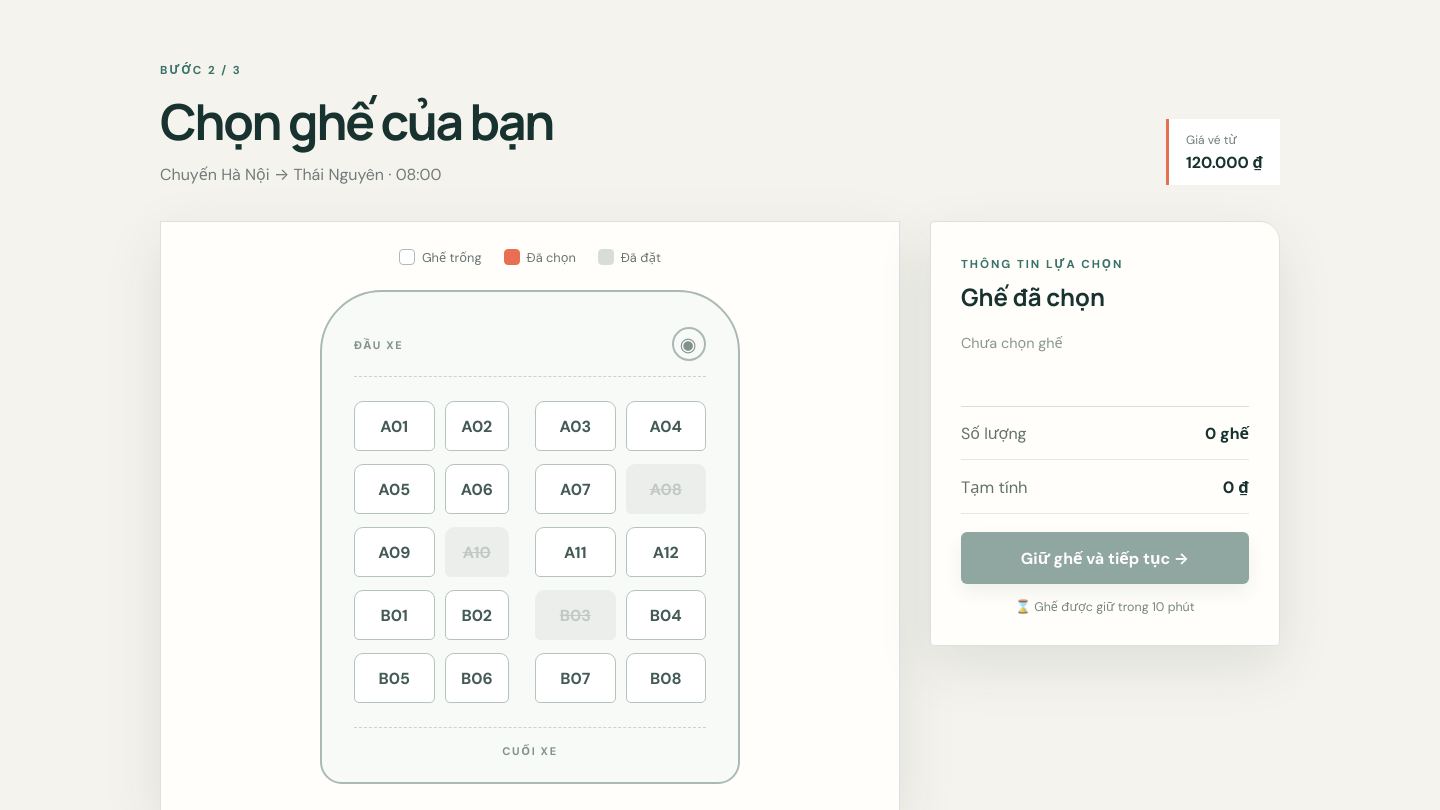
Test case: SelectSeat › chọn và bỏ chọn một ghế trống
The image size is (1440, 810).
Step 1. Click the button named "Ghế A01 còn trống" → (394, 426), box [354, 401, 434, 451]
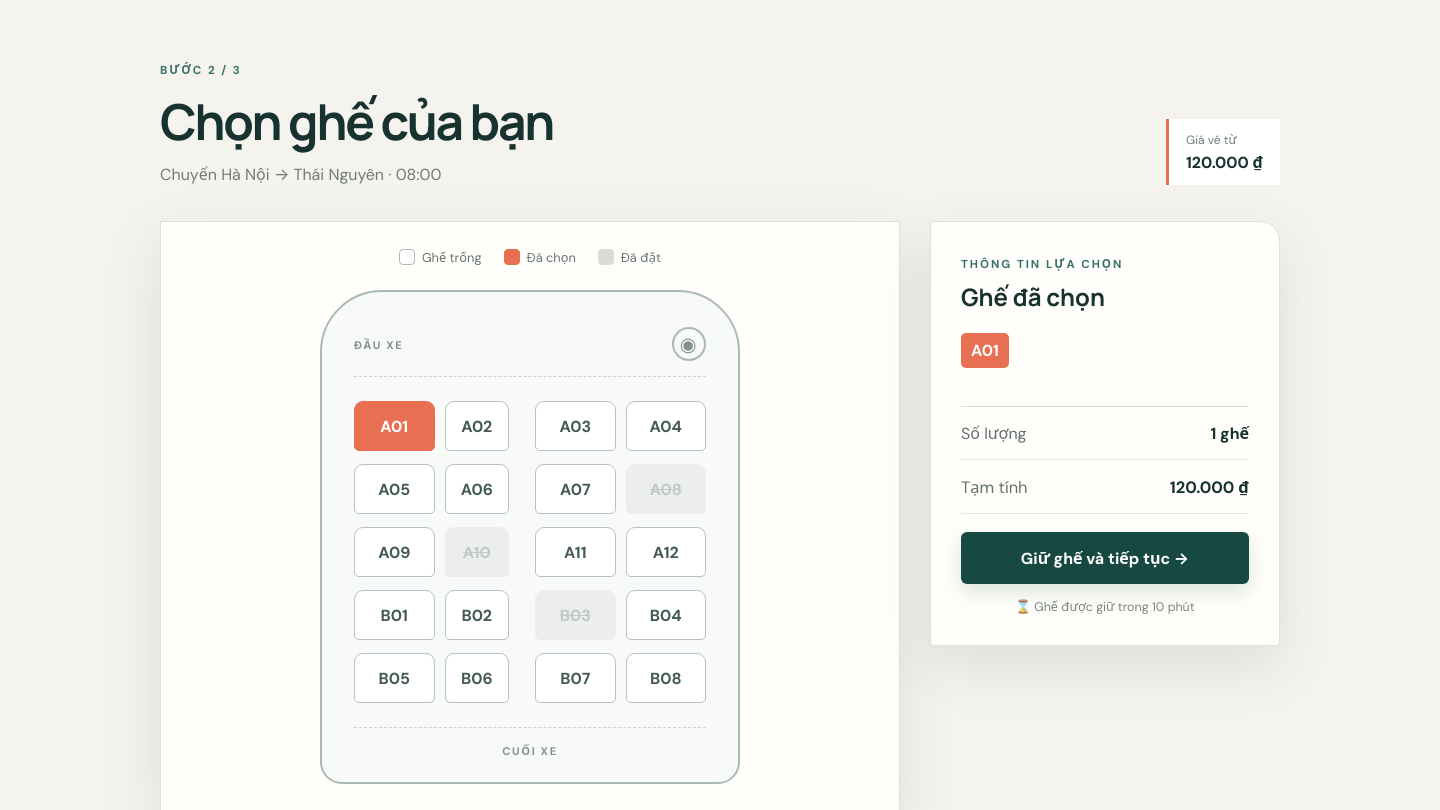
Now the button named "Ghế A01 đã chọn" is pressed
Step 2. Click the button named "Ghế A01 đã chọn" → (394, 426), box [354, 401, 434, 451]
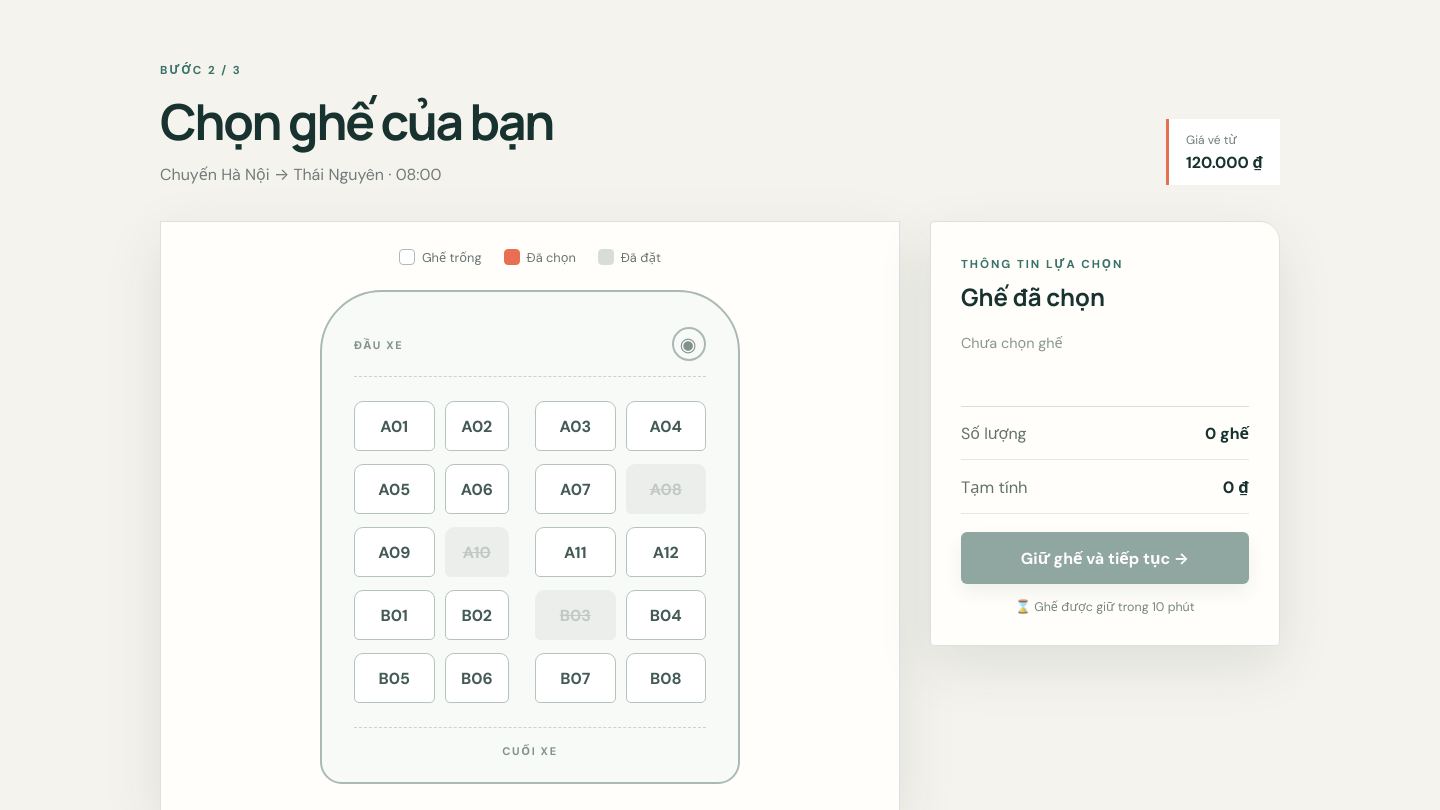
Now the text "Chưa chọn ghế" is shown, box [961, 333, 1063, 352]
